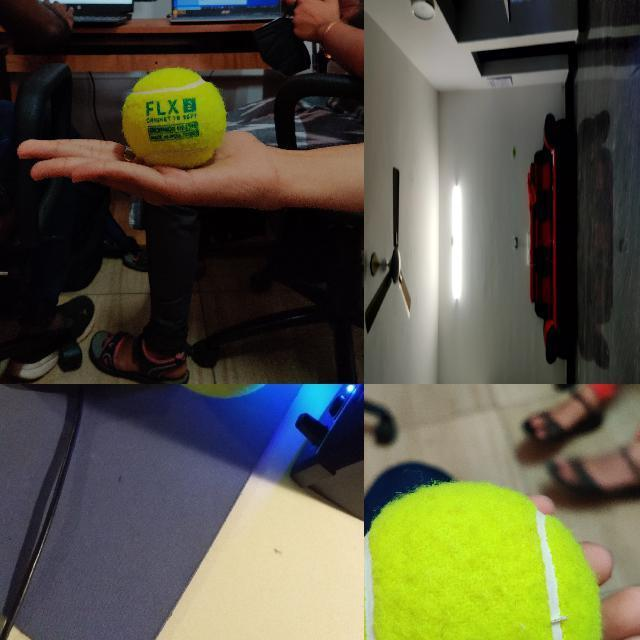tennis-ball: (364, 484, 600, 639), (123, 68, 226, 164), (511, 146, 516, 158)
